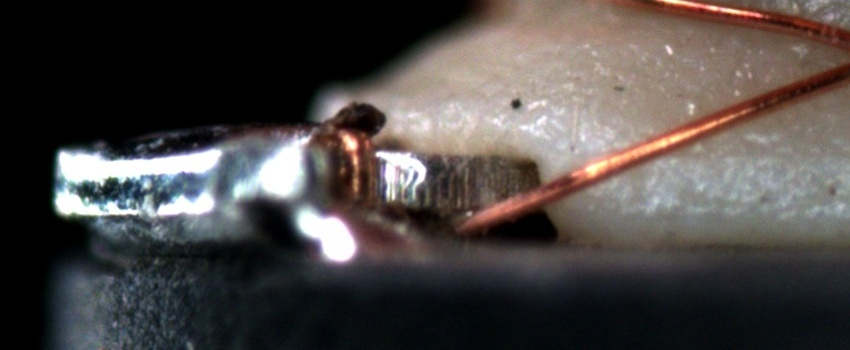DL: (618, 124, 849, 188)
TE: (336, 125, 384, 209)
